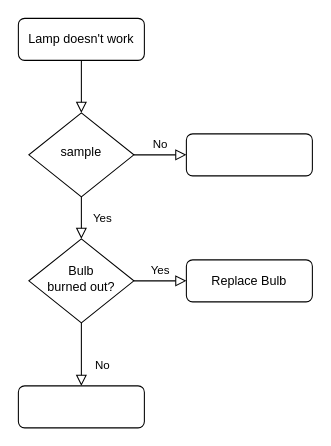
This 331x446 diagram has some shape labels left out. Here are the shapes that lost their labels. From the top down, the centre of each, then its label:
(x=248, y=154): flow
(x=80, y=406): Repair Lamp
